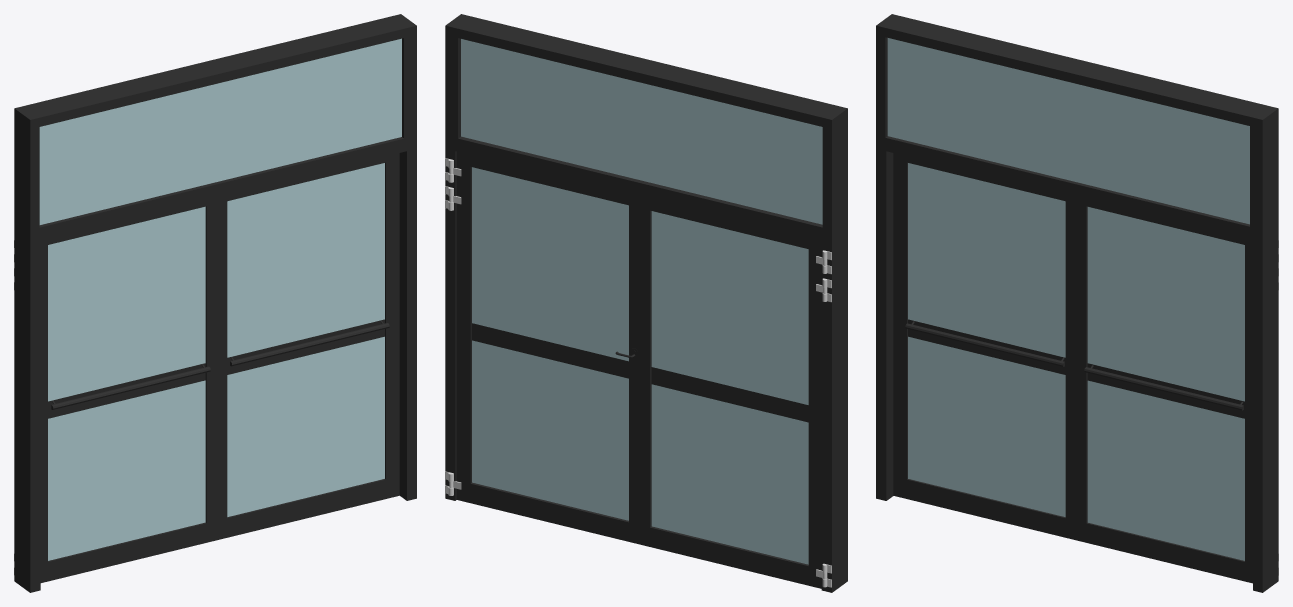
Rendered from Exit Doors.fbx.
3 renders of one model, left to right at view 1: azimuth 30°, elevation 25°; view 2: azimuth 150°, elevation 25°; view 3: azimuth 330°, elevation 25°, orthographic.
Visible parts, largest first — view 1: DoorFrame0.014, DoorWing0P.017, DoorWing0L.017; view 2: DoorFrame0.014, DoorWing0P.017, DoorWing0L.017; view 3: DoorFrame0.014, DoorWing0L.017, DoorWing0P.017.
Part boxes in pixels (<box>): DoorFrame0.014: <box>14,14,416,592</box>; DoorWing0P.017: <box>217,153,399,540</box>; DoorWing0L.017: <box>40,197,216,582</box>; DoorFrame0.014: <box>445,14,847,592</box>; DoorWing0P.017: <box>449,151,639,544</box>; DoorWing0L.017: <box>639,196,827,588</box>; DoorFrame0.014: <box>876,14,1278,592</box>; DoorWing0L.017: <box>893,153,1075,540</box>; DoorWing0P.017: <box>1076,197,1252,583</box>.
Bounding box in the file's own units: 224 × 262 × 18.7.
